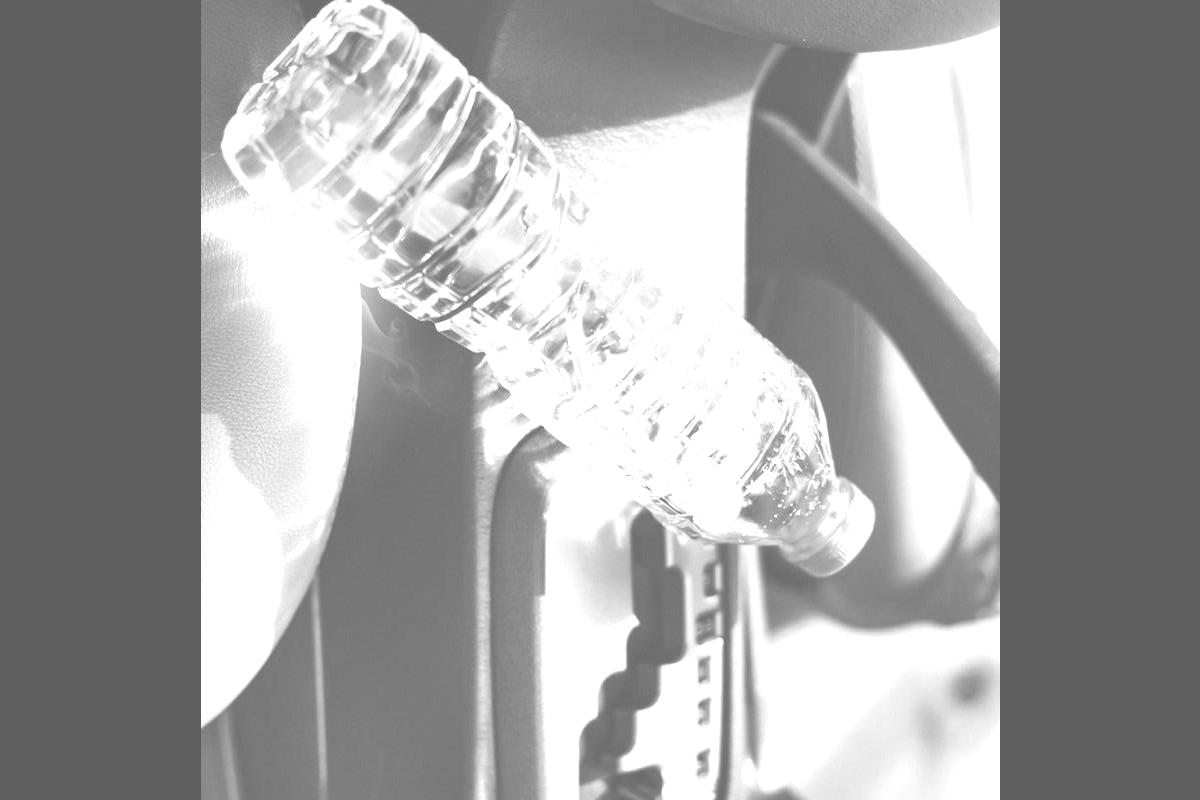bottle: (200, 0, 912, 587)
